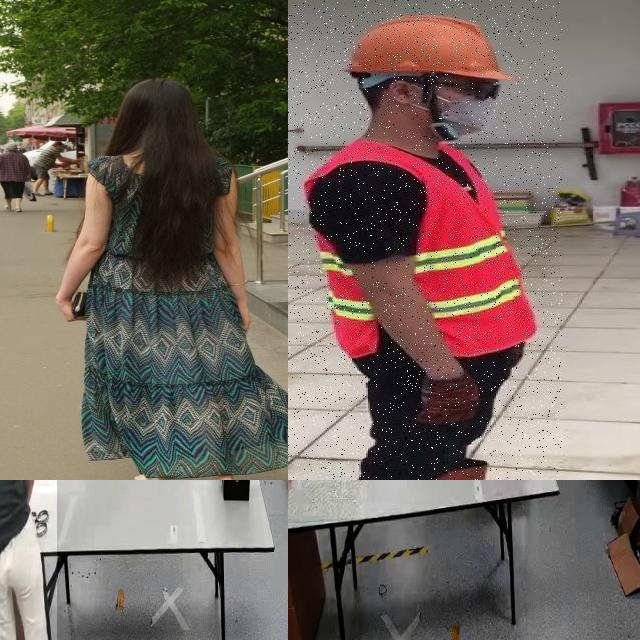Barefoots: (133, 473, 171, 480)
No_Ear-Protection: (378, 70, 434, 122)
head_helmet: (338, 10, 508, 80)
person: (288, 0, 562, 480)
vest: (294, 148, 546, 354)
